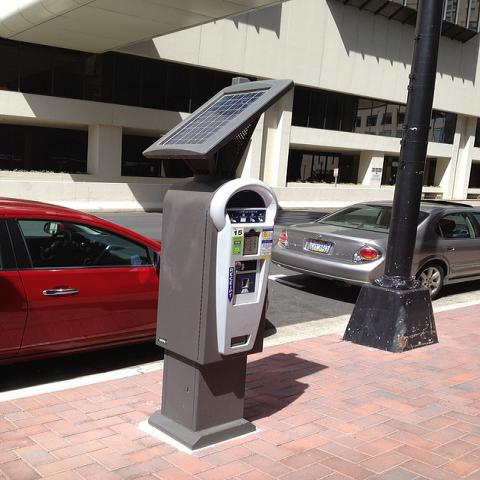car: (1, 198, 164, 363), (267, 200, 479, 304)
